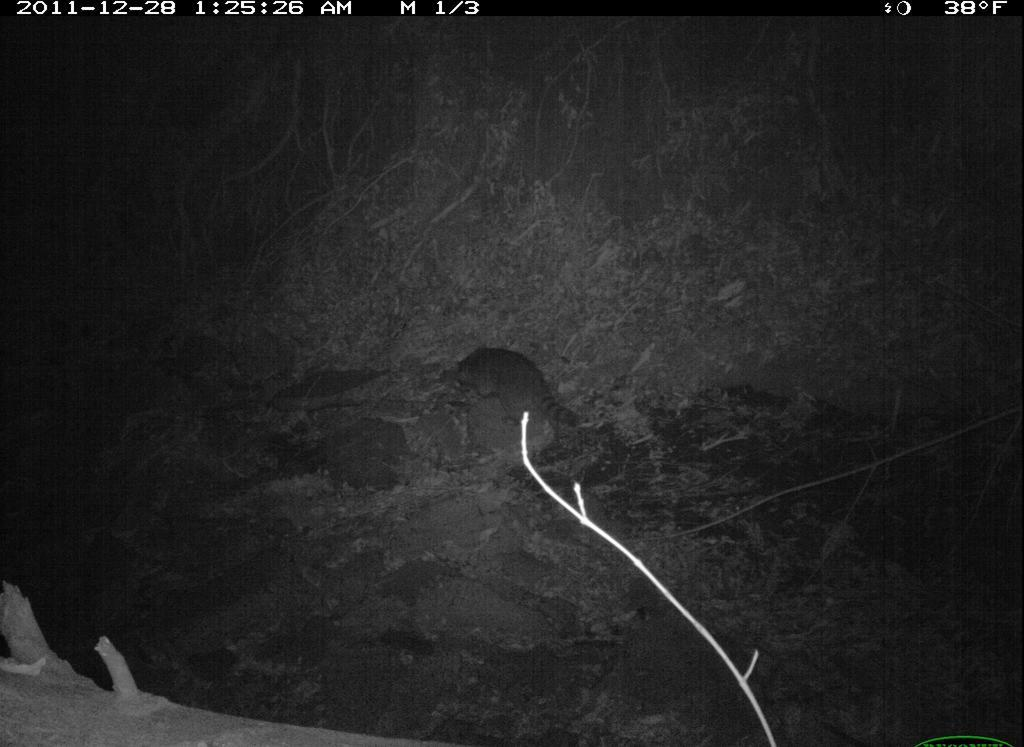raccoon: (436, 324, 598, 457)
